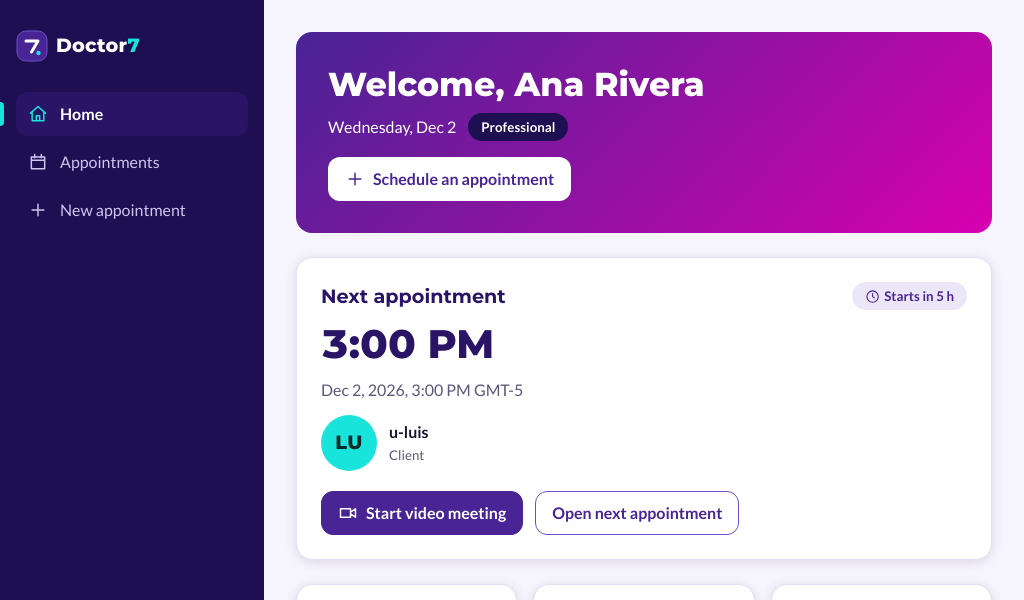
Test: Home for a professional › shows the problem, and lets the professional start again
Click the button "Start video meeting" at x=422, y=513, box x1=321 y1=491 x2=523 y2=535
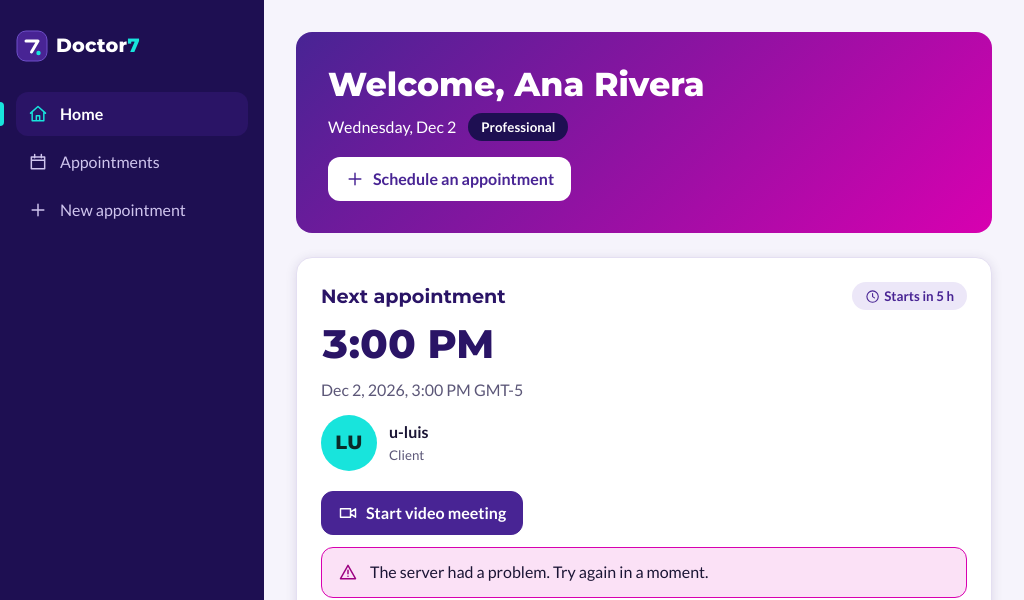
Expected: the message shows "The server had a problem", x1=370 y1=562 x2=708 y2=581
